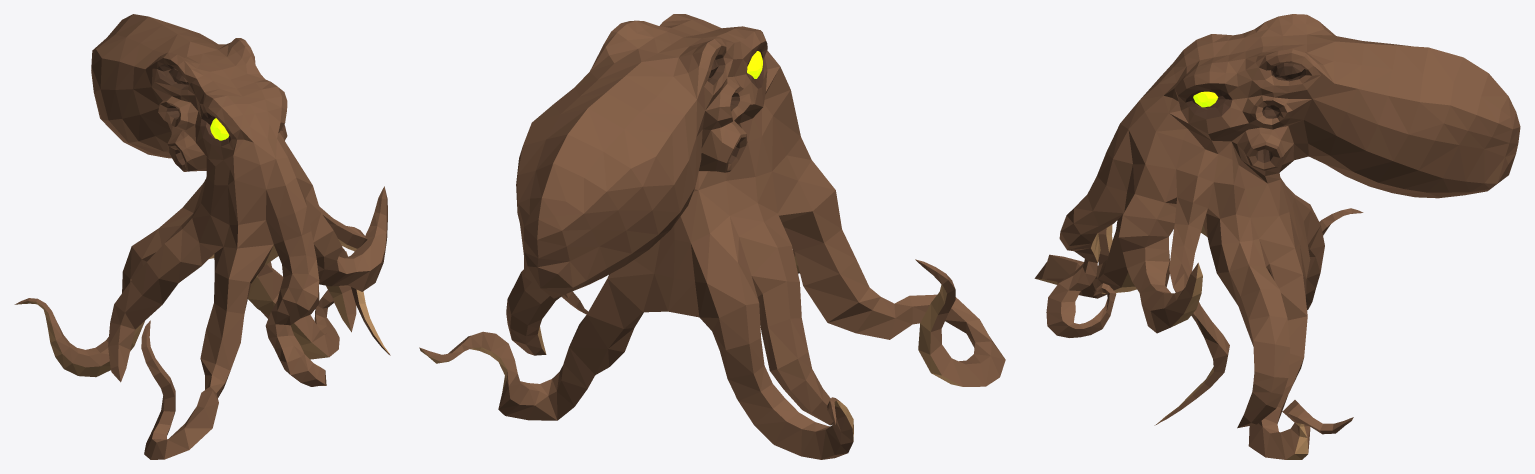
File: Krakren_Table_003.fbx
The picture shows the model from 3 angles, left to right: view 1: azimuth 30°, elevation 25°; view 2: azimuth 150°, elevation 25°; view 3: azimuth 270°, elevation 25°; orthographic projection. The views are drawn at different scales.
Visible parts, largest first — view 1: Krakren_Table_003; view 2: Krakren_Table_003; view 3: Krakren_Table_003.
Boxes of the visible parts, <box> form: Krakren_Table_003: <box>14,14,390,459</box>; Krakren_Table_003: <box>419,14,1005,459</box>; Krakren_Table_003: <box>1034,14,1520,459</box>.
Bounding box in the file's own units: 2.35 × 2.26 × 2.7.
